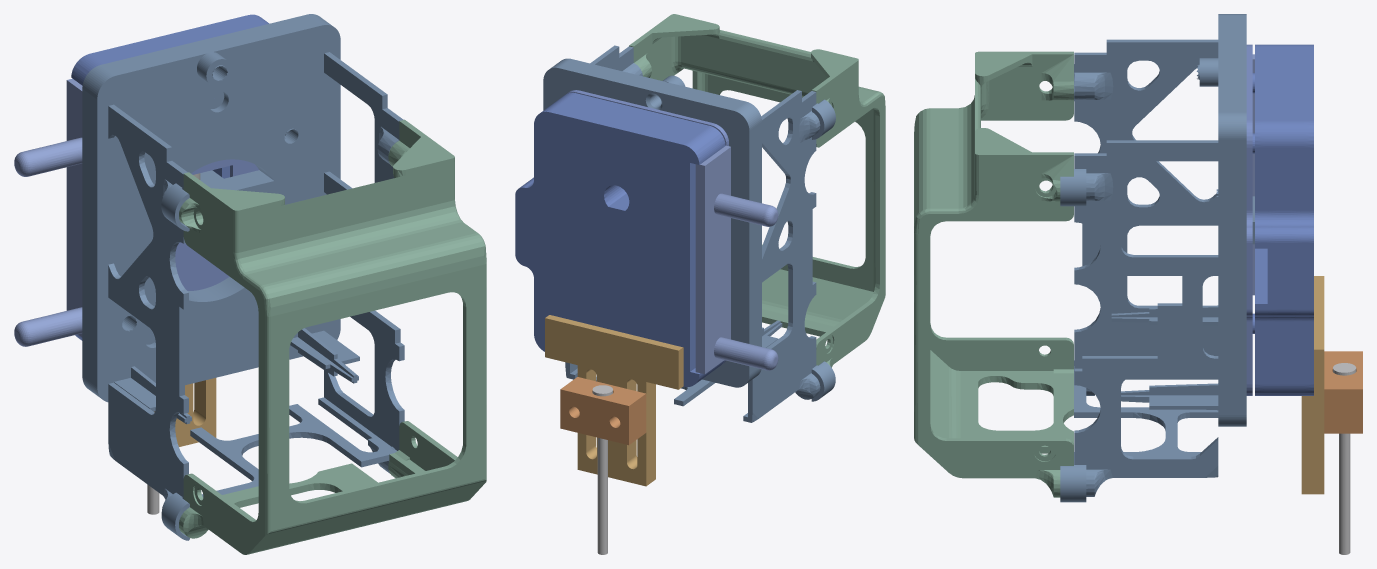
Rendered from S1 FilaLoom Head - Assembled.glb.
3 views of the same model, side by side, from view 1: azimuth 30°, elevation 25°; view 2: azimuth 150°, elevation 25°; view 3: azimuth 270°, elevation 25° (orthographic). The views are drawn at different scales.
Visible parts, largest first — view 1: S1 Faceplate, S1 Back Cover, Depositor Docking Bars, Depositor Front Body, Depositor Back Body, Needle Holder Plate; view 2: Depositor Front Body, S1 Faceplate, S1 Back Cover, Needle Holder Plate, Depositor Docking Bars, Needle Carrier, Needle 12G (stand-in), Depositor Back Body; view 3: S1 Faceplate, S1 Back Cover, Depositor Front Body, Needle Holder Plate, Needle Carrier, Depositor Back Body, Needle 12G (stand-in).
Part boxes in pixels (x1,y1,x2,y2): S1 Faceplate: [82, 14, 404, 540]; S1 Back Cover: [179, 119, 486, 554]; Depositor Docking Bars: [14, 78, 82, 346]; Depositor Front Body: [71, 14, 268, 340]; Depositor Back Body: [149, 98, 258, 334]; Needle Holder Plate: [154, 378, 216, 446]; Depositor Front Body: [515, 92, 725, 386]; S1 Faceplate: [543, 45, 835, 422]; S1 Back Cover: [629, 14, 885, 367]; Needle Holder Plate: [545, 315, 683, 486]; Depositor Docking Bars: [695, 145, 778, 374]; Needle Carrier: [560, 377, 646, 445]; Needle 12G (stand-in): [592, 385, 612, 554]; Depositor Back Body: [567, 90, 728, 364]; S1 Faceplate: [1060, 14, 1254, 502]; S1 Back Cover: [914, 51, 1073, 497]; Depositor Front Body: [1252, 44, 1313, 395]; Needle Holder Plate: [1301, 276, 1324, 494]; Needle Carrier: [1324, 351, 1362, 433]; Depositor Back Body: [1246, 44, 1252, 395]; Needle 12G (stand-in): [1333, 363, 1356, 554].
Size of the model in its own units: 80.35 by 132 by 110.
